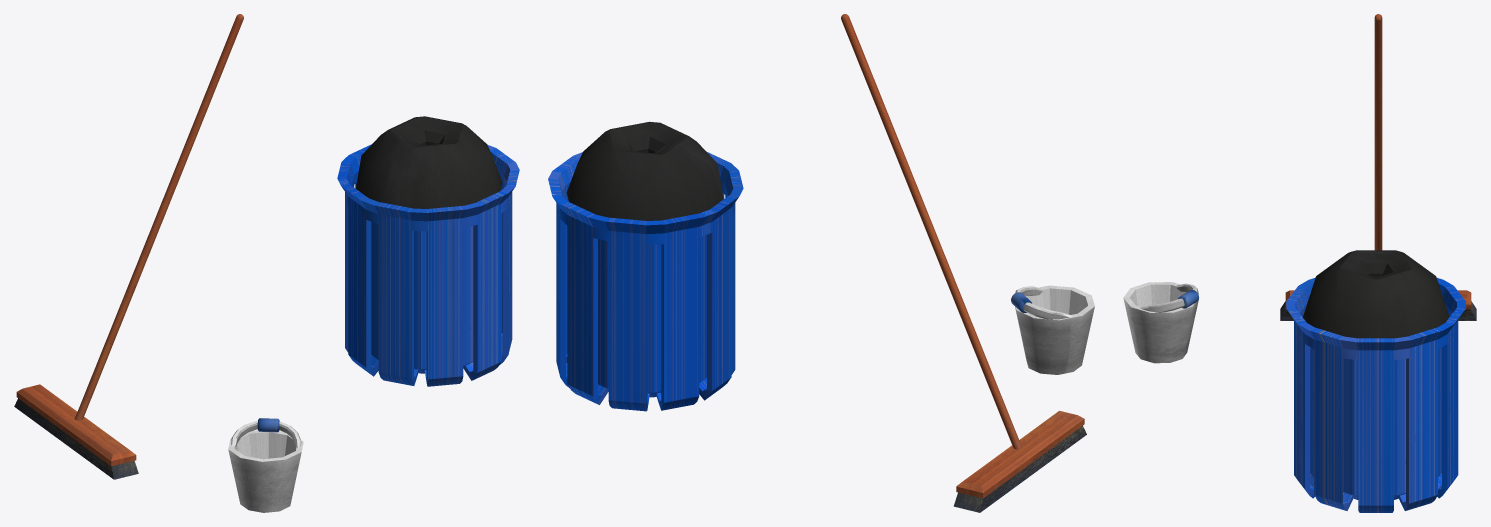
Rendered from Janitors_Equipment.fbx.
3 renders of one model, left to right at view 1: azimuth 30°, elevation 25°; view 2: azimuth 150°, elevation 25°; view 3: azimuth 270°, elevation 25°, orthographic. The views are drawn at different scales.
Parts seen in each view (by area): view 1: Trash, Broom, Bucket; view 2: Trash, Broom, Bucket; view 3: Trash, Bucket, Broom.
Boxes of the visible parts, x1=… form: Trash: x1=337, y1=116, x2=519, y2=386; Broom: x1=14, y1=14, x2=243, y2=479; Bucket: x1=228, y1=418, x2=303, y2=512; Trash: x1=548, y1=121, x2=743, y2=411; Broom: x1=841, y1=14, x2=1086, y2=512; Bucket: x1=1011, y1=285, x2=1094, y2=374; Trash: x1=1286, y1=250, x2=1465, y2=512; Bucket: x1=1123, y1=282, x2=1199, y2=363; Broom: x1=1280, y1=14, x2=1476, y2=320.
Size of the model in its own units: 96.04 by 80.29 by 67.86.
